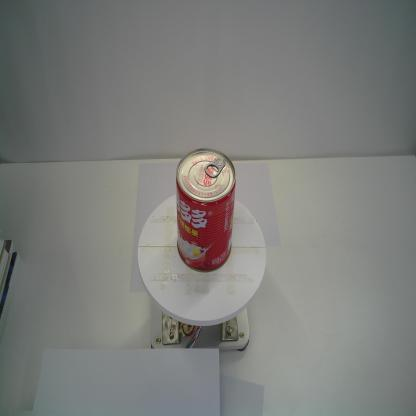Canned Food: (176, 147, 236, 273)
